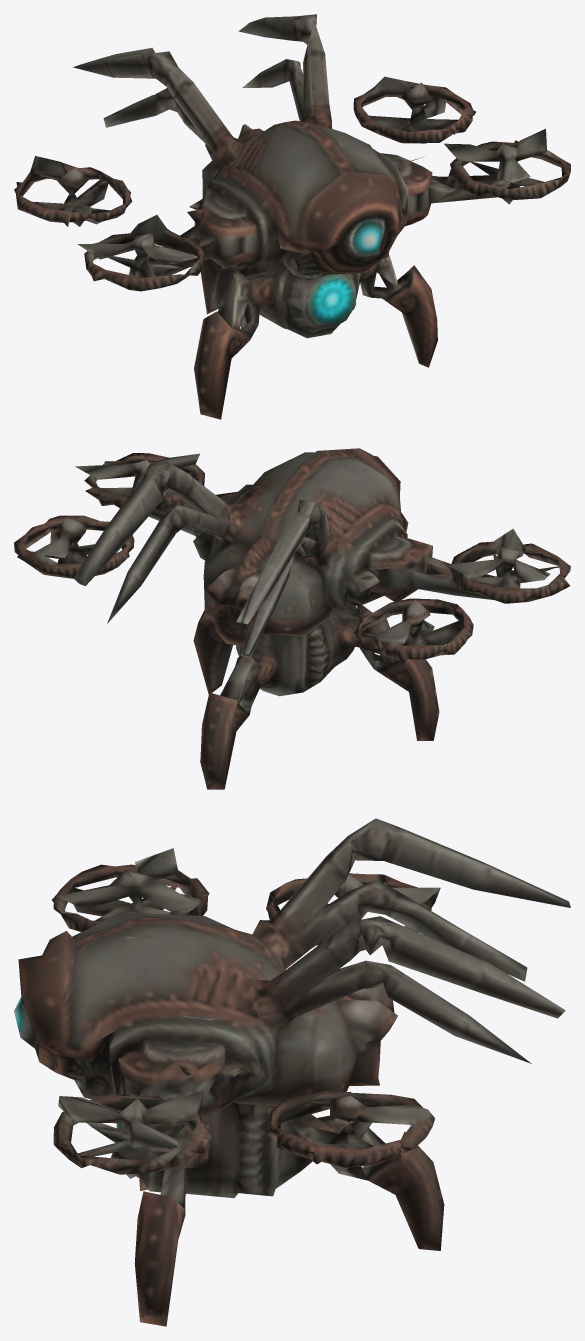
File: drone-scout.glb
The picture shows the model from 3 angles, top to bottom: view 1: azimuth 30°, elevation 25°; view 2: azimuth 150°, elevation 25°; view 3: azimuth 270°, elevation 25°; orthographic projection. The views are drawn at different scales.
Visible parts, largest first — view 1: Mesh1.0; view 2: Mesh1.0; view 3: Mesh1.0.
Boxes of the visible parts, left/top/right/bottom form: Mesh1.0: left=14, top=14, right=570, bottom=419; Mesh1.0: left=14, top=448, right=570, bottom=789; Mesh1.0: left=14, top=818, right=570, bottom=1326.
Size of the model in its own units: 1.89 by 1.13 by 1.47.
1 material, 1 textured.
